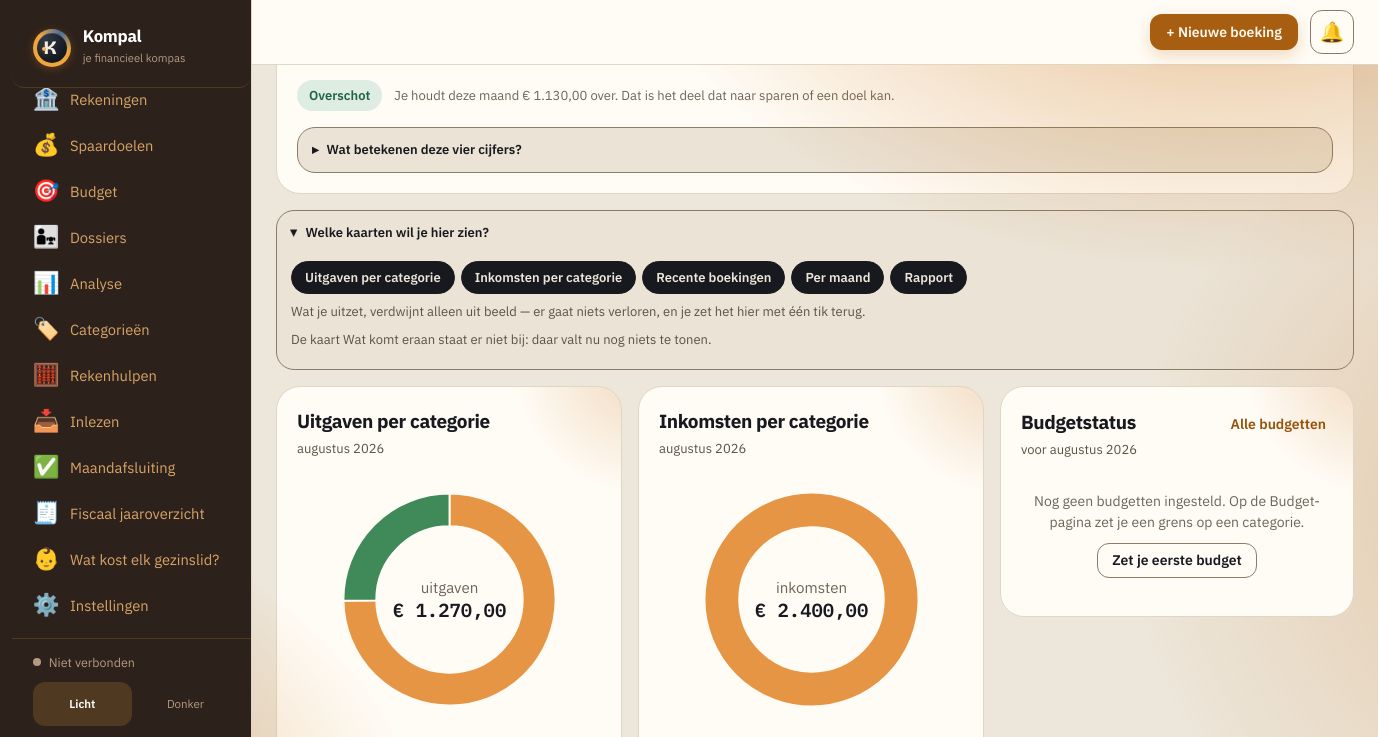
Scenario: App op een breed scherm › laat de pagina bij elke tabwissel opnieuw in beeld komen
(page scrolled)
Click the button "⚙️ Instellingen". click: [132, 605]
box: x1=20 y1=583 x2=243 y2=627
(page scrolled)
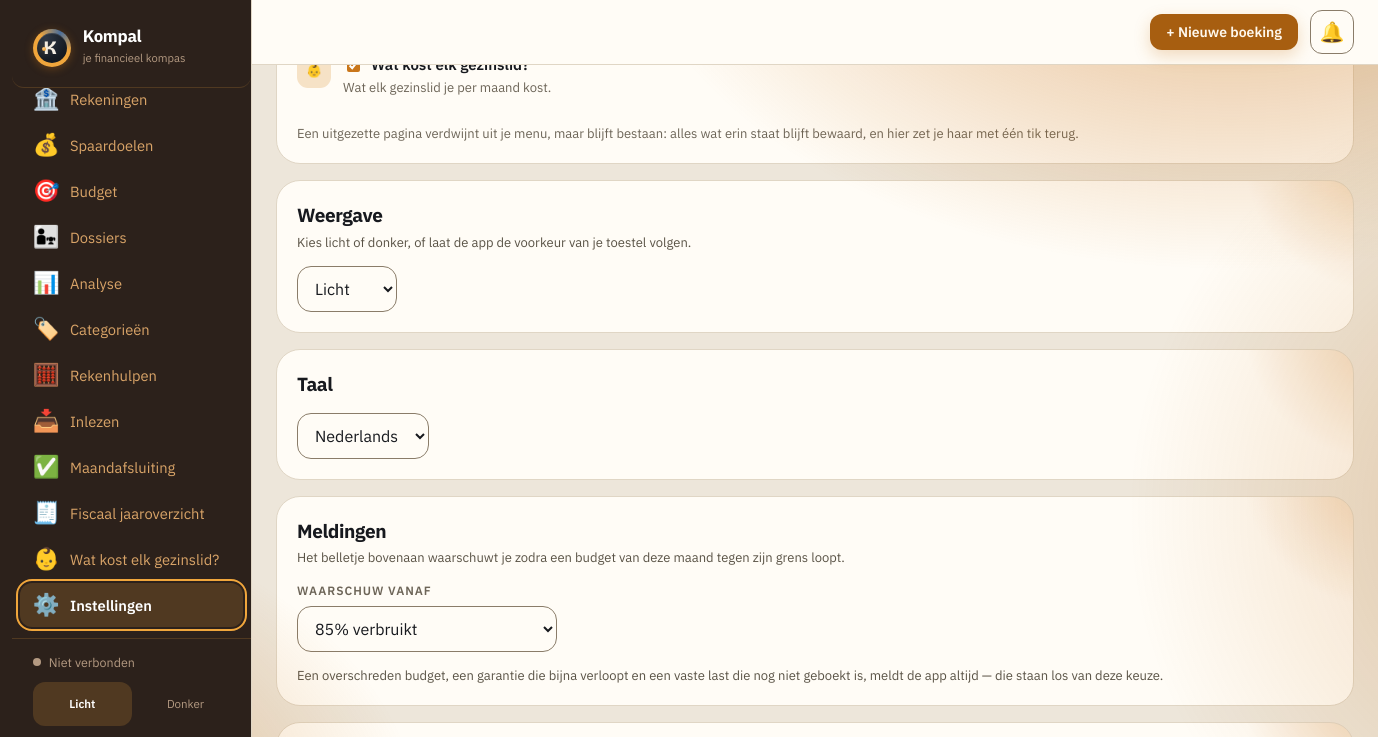
Now the heading "Taal" is shown, box x1=297 y1=370 x2=333 y2=399
